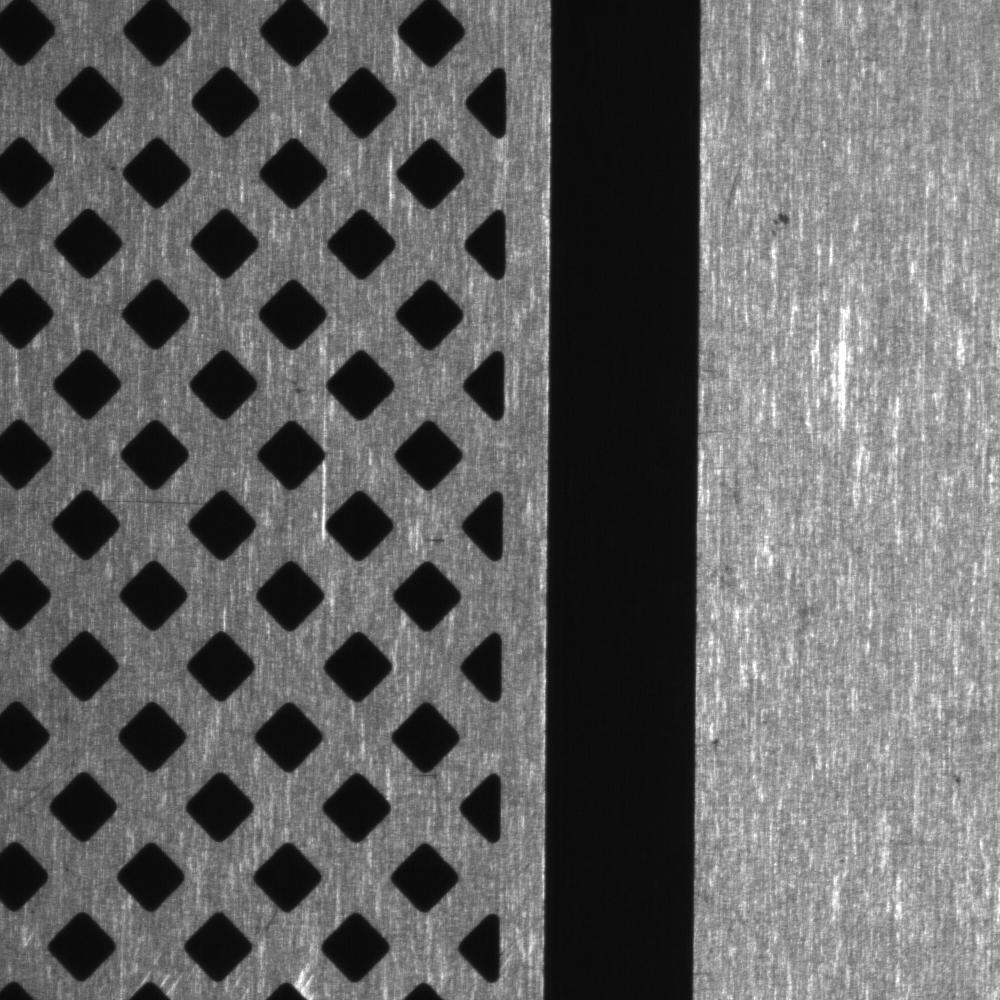Etching: (764, 192, 796, 251)
Scar: (11, 737, 89, 814), (699, 541, 756, 610), (714, 150, 750, 237), (103, 487, 205, 517)
